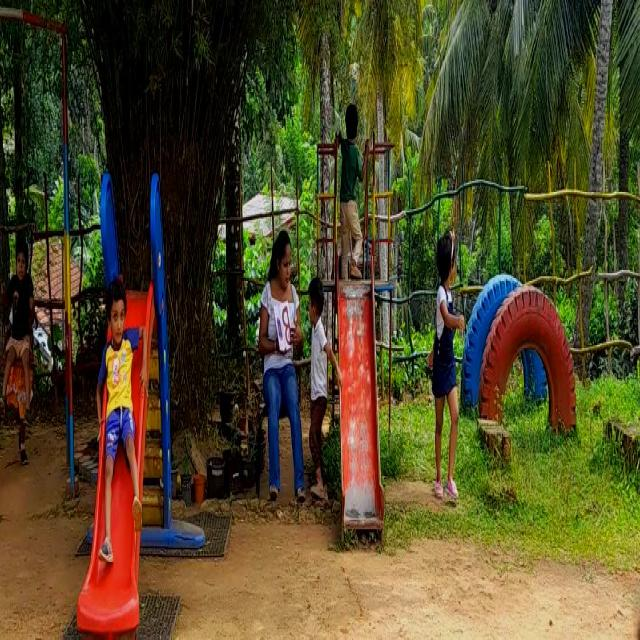adult: (252, 223, 302, 514)
child: (94, 282, 145, 558), (423, 215, 468, 526), (4, 231, 41, 454), (304, 264, 330, 507), (338, 88, 367, 290)
